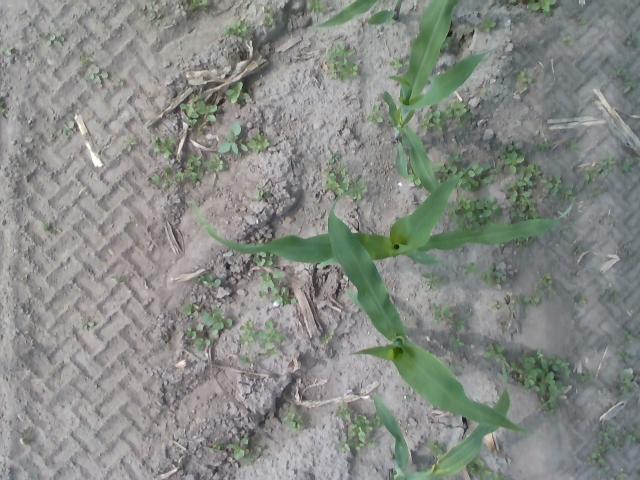Maize: (328, 189, 534, 434), (192, 163, 576, 264), (379, 0, 501, 192), (372, 360, 511, 480), (308, 0, 381, 28), (366, 0, 404, 25)
Weeds: (498, 352, 572, 418), (585, 423, 640, 474), (501, 162, 543, 218), (237, 319, 284, 369), (148, 150, 202, 192), (333, 400, 375, 454), (321, 151, 368, 199), (446, 194, 504, 229), (180, 90, 221, 135), (430, 301, 464, 347), (255, 269, 296, 306), (329, 40, 362, 80), (77, 51, 111, 88), (216, 121, 251, 156), (228, 436, 262, 466), (50, 104, 80, 138), (498, 140, 527, 174), (582, 156, 616, 184), (203, 308, 234, 338), (218, 18, 256, 42), (461, 164, 494, 191), (442, 99, 472, 128), (282, 401, 306, 433), (152, 134, 181, 160), (226, 80, 255, 106), (140, 0, 164, 30), (480, 262, 507, 286), (184, 328, 213, 350), (38, 30, 68, 51), (203, 154, 229, 178), (417, 111, 444, 134), (616, 67, 638, 94), (482, 340, 506, 362), (541, 174, 564, 196), (528, 0, 556, 18), (247, 131, 271, 152), (616, 370, 636, 394), (433, 162, 458, 181), (422, 271, 443, 291), (471, 459, 493, 478), (532, 272, 552, 292), (197, 272, 222, 288), (180, 0, 210, 13), (518, 71, 534, 92), (368, 104, 384, 125), (182, 303, 203, 319), (264, 6, 279, 28), (622, 156, 640, 174), (447, 149, 467, 165), (123, 133, 139, 153), (253, 252, 274, 267), (614, 345, 630, 364), (308, 0, 328, 15), (536, 140, 556, 154), (253, 186, 270, 202), (611, 467, 631, 480), (604, 286, 620, 302), (320, 328, 336, 344), (461, 262, 478, 277), (580, 368, 594, 386), (572, 12, 590, 26), (41, 220, 57, 234), (520, 295, 540, 306), (482, 18, 496, 33), (0, 100, 10, 120), (622, 328, 636, 342), (626, 35, 640, 49), (0, 44, 14, 58), (112, 272, 126, 286), (492, 467, 506, 480), (391, 56, 404, 70), (428, 442, 442, 455), (84, 320, 99, 332), (576, 295, 588, 309), (407, 174, 421, 186), (212, 441, 228, 451), (588, 189, 603, 199), (516, 236, 534, 244), (566, 138, 576, 152), (562, 35, 576, 45), (574, 243, 584, 256), (565, 188, 575, 200), (498, 0, 516, 6), (443, 37, 450, 51), (483, 90, 494, 98), (492, 300, 501, 308)
